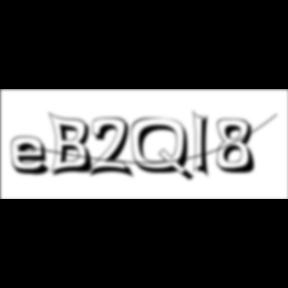2: (88, 117, 138, 181)
8: (216, 117, 262, 176)
B: (49, 111, 99, 179)
Q: (131, 117, 197, 184)
e: (11, 135, 57, 178)
l: (192, 108, 216, 182)
